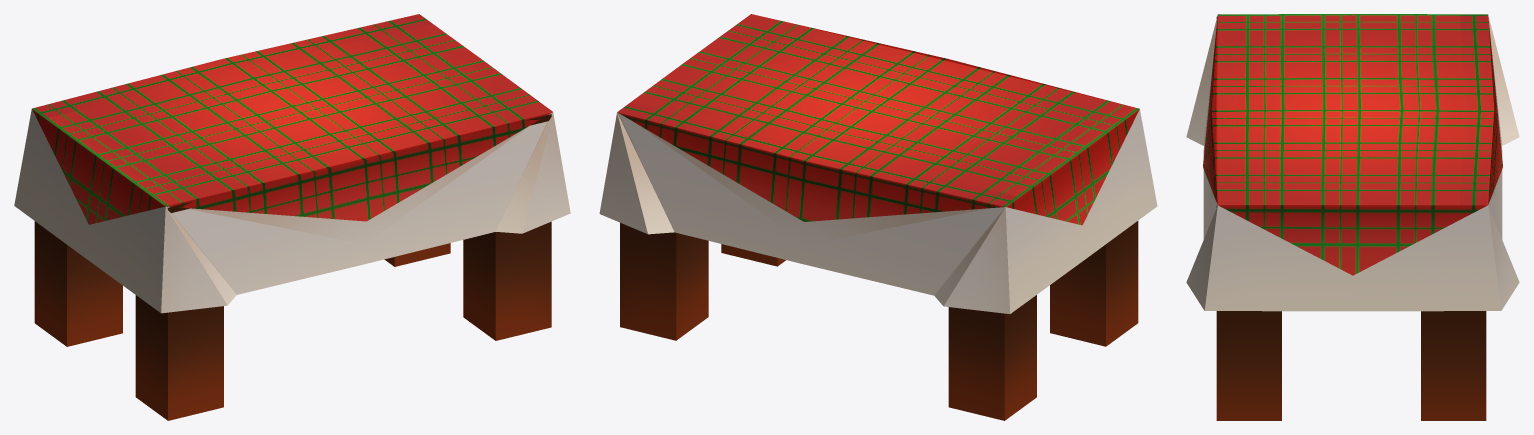
Rendered from Background_Stage6_Table02.fbx.
3 views of the same model, side by side, from view 1: azimuth 30°, elevation 25°; view 2: azimuth 150°, elevation 25°; view 3: azimuth 270°, elevation 25° (orthographic).
Visible parts, largest first — view 1: Background_Stage6_Table; view 2: Background_Stage6_Table; view 3: Background_Stage6_Table.
Boxes of the visible parts, x1,y1,x2,y2 form: Background_Stage6_Table: (14,14,570,420); Background_Stage6_Table: (599,14,1157,420); Background_Stage6_Table: (1186,14,1519,420).
Size of the model in its own units: 1201 by 602 by 837.
